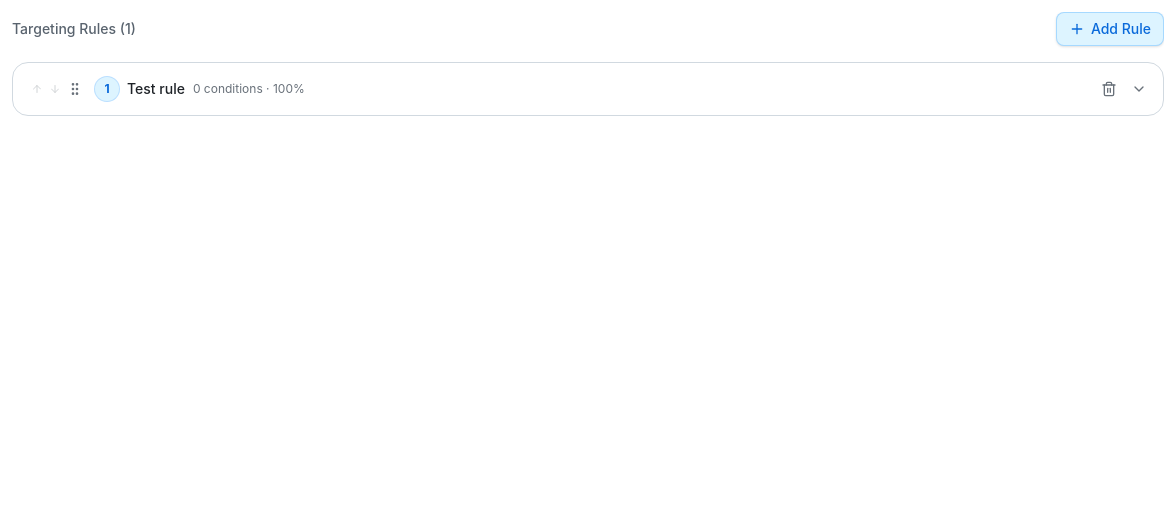
Scenario: VisualRuleBuilder › expands rule on click
expect the text "Percentage rollout" is not shown: met
Note: Click to expand
Click the text "Test rule".
click(156, 89)  # box x1=127 y1=79 x2=185 y2=99
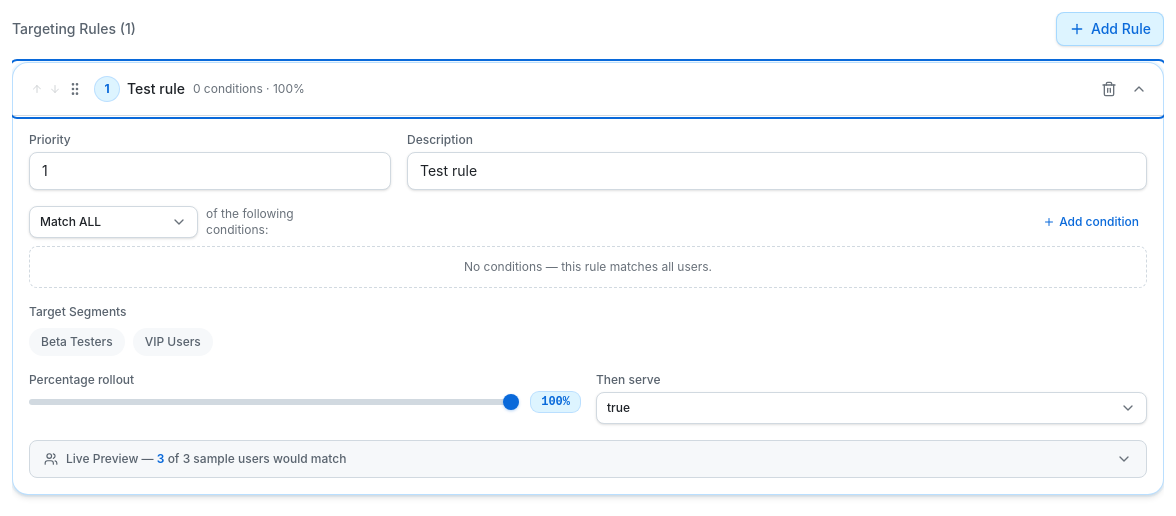
expect the text "Percentage rollout" is shown: met, box x1=29 y1=372 x2=134 y2=387
